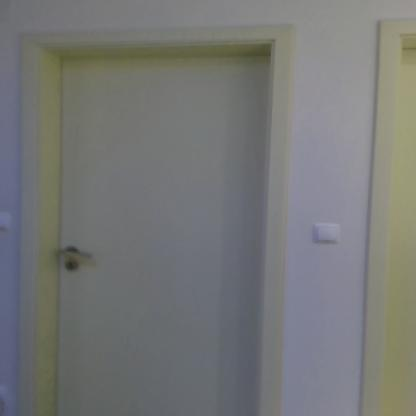door: (60, 60, 267, 416)
lever: (60, 247, 92, 261)
